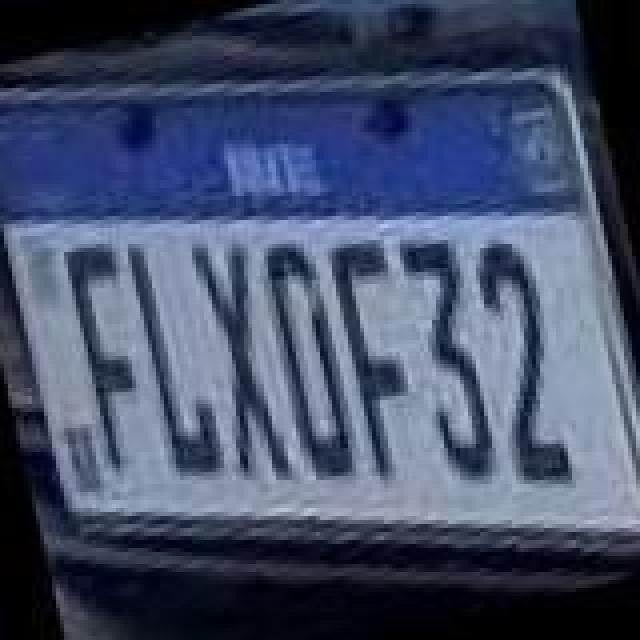2: (460, 232, 580, 488)
3: (394, 232, 510, 488)
D: (254, 232, 370, 488)
F: (322, 234, 438, 486), (58, 238, 166, 482)
L: (122, 234, 230, 486)
X: (182, 228, 298, 492)
